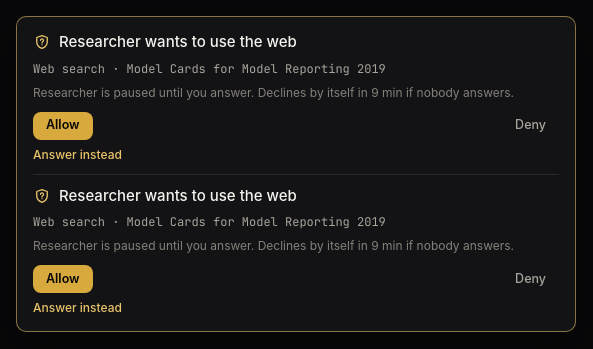
Scenario: the permission card (ADR 0040) › says so when the request had already gone, and renders nothing with nothing open
Click the 1st button "Allow": {"x": 63, "y": 126} top-left (33, 112), bottom-right (93, 140)
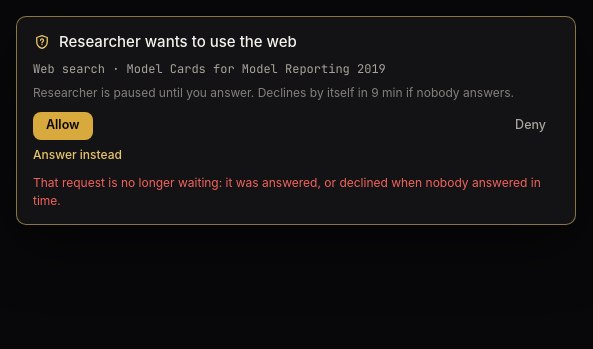
Expected: the message shows "no longer waiting", top-left (33, 174), bottom-right (541, 208)
